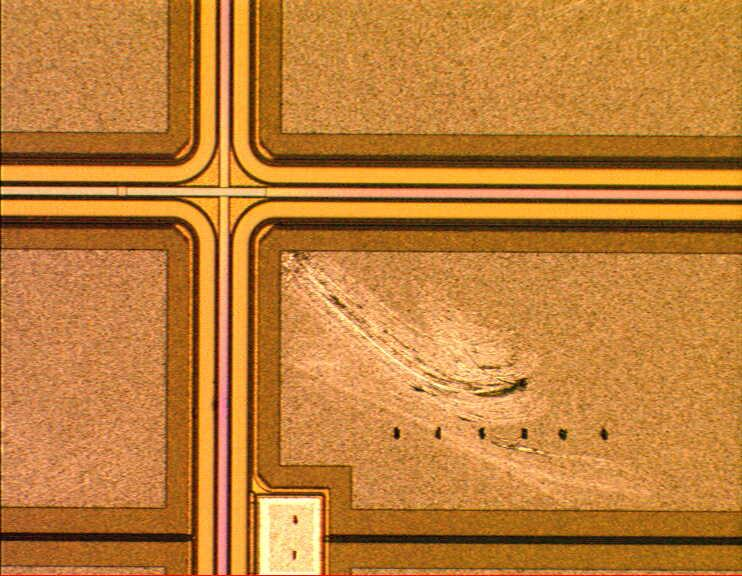SCRATCH: (273, 245, 662, 517)
